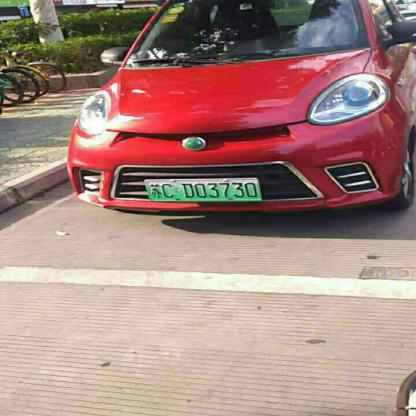lp: (146, 180, 260, 200)
